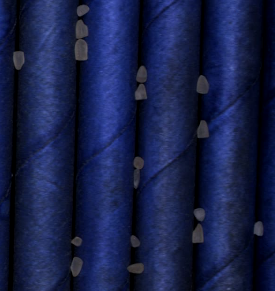broken_grain: (73, 38, 89, 63), (195, 72, 211, 97), (73, 19, 91, 40), (69, 255, 84, 278), (195, 119, 211, 140), (190, 224, 205, 246), (11, 50, 27, 70), (132, 84, 149, 101), (135, 64, 148, 83), (126, 262, 144, 275), (75, 3, 90, 18), (253, 219, 264, 239), (128, 234, 141, 248), (133, 155, 146, 168), (70, 236, 84, 248)
milky_broken_grain: (130, 168, 142, 190), (193, 206, 206, 223)
